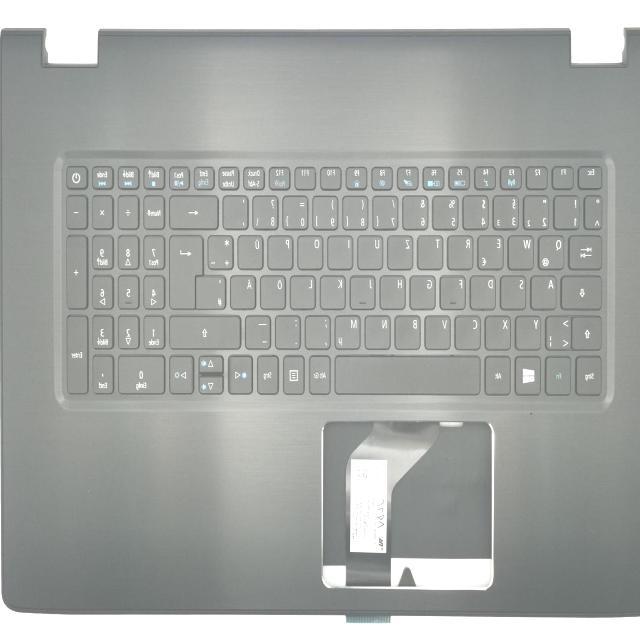0: (282, 194, 309, 230)
1: (554, 194, 581, 230)
2: (523, 194, 551, 230)
3: (493, 195, 520, 231)
4: (462, 194, 490, 231)
5: (432, 195, 459, 231)
6: (403, 195, 429, 231)
7: (373, 195, 399, 231)
8: (343, 195, 369, 230)
9: (312, 195, 340, 231)
a: (530, 274, 557, 310)
accent: (223, 194, 249, 230)
ae: (230, 273, 258, 310)
alt-left: (484, 354, 512, 396)
altgr-right: (308, 354, 332, 396)
b: (394, 315, 422, 351)
c: (454, 315, 483, 351)
caret: (584, 194, 604, 230)
comma: (305, 315, 333, 351)
d: (470, 274, 497, 311)
del: (169, 194, 219, 230)
e: (477, 234, 504, 270)
enter: (170, 233, 202, 309)
f: (439, 274, 467, 310)
g: (409, 274, 437, 310)
h: (379, 274, 407, 310)
hash: (197, 274, 227, 310)
i: (327, 234, 355, 270)
j: (351, 273, 377, 310)
k: (320, 273, 348, 311)
keyboard: (55, 150, 614, 407)
l: (289, 273, 317, 311)
less: (546, 315, 572, 351)
m: (334, 315, 362, 351)
minus: (245, 314, 273, 350)
n: (364, 315, 392, 351)
o: (297, 234, 325, 271)
oe: (260, 273, 288, 311)
p: (267, 234, 295, 271)
plus: (207, 234, 235, 270)
point: (274, 314, 302, 350)
q: (538, 234, 565, 270)
r: (447, 234, 475, 270)
s: (500, 274, 528, 310)
shift-left: (573, 315, 603, 351)
shift-lock: (561, 274, 603, 310)
shift-right: (169, 314, 243, 349)
space: (335, 353, 483, 394)
ss: (253, 195, 279, 231)
strg-left: (575, 355, 603, 396)
strg-right: (256, 354, 280, 396)
t: (417, 233, 445, 271)
tab: (569, 234, 603, 270)
u: (357, 234, 384, 270)
ue: (237, 234, 265, 270)
v: (424, 315, 452, 351)
w: (507, 234, 535, 270)
x: (485, 315, 513, 351)
y: (515, 315, 543, 351)
z: (388, 234, 414, 270)
